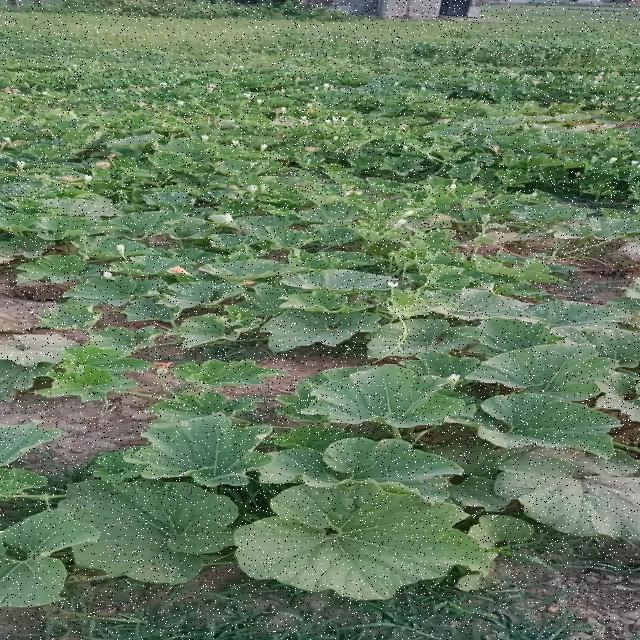weed: (263, 236, 282, 468)
